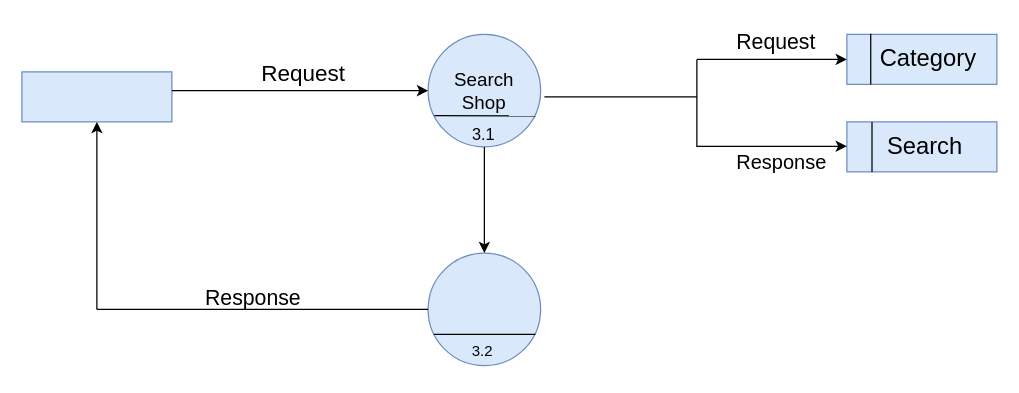
This 1019x393 diagram has some shape labels left out. The shapes that lost their labels are listed below. From the top down, each one's box as (x1, y1, x2, y2) in pixels, then its label:
(21, 71, 172, 122): User
(427, 252, 541, 366): Shop List
